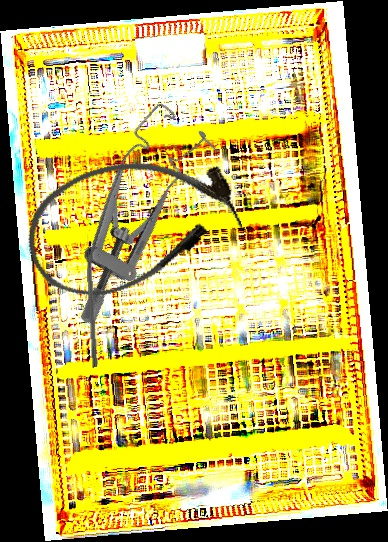Cannula: (13, 135, 250, 312)
Pusher: (84, 233, 100, 368)
Speculum: (18, 95, 237, 330)
